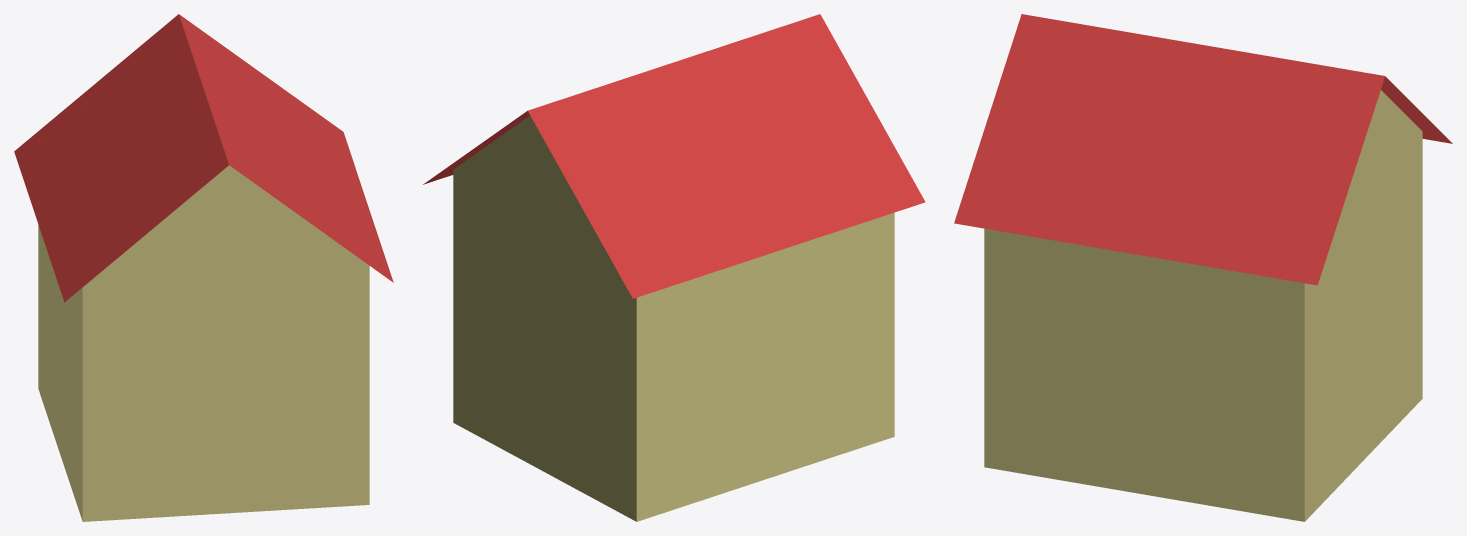
The picture shows the model from 3 angles, left to right: view 1: azimuth 30°, elevation 25°; view 2: azimuth 150°, elevation 25°; view 3: azimuth 270°, elevation 25°; orthographic projection. The views are drawn at different scales.
Size of the model in its own units: 15.51 by 16.06 by 13.78.
